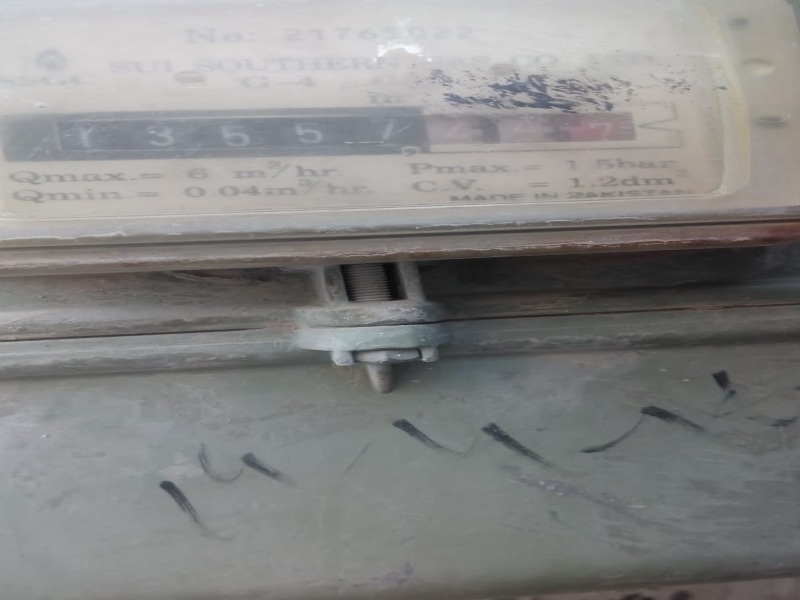ssgc: (41, 106, 649, 156)
